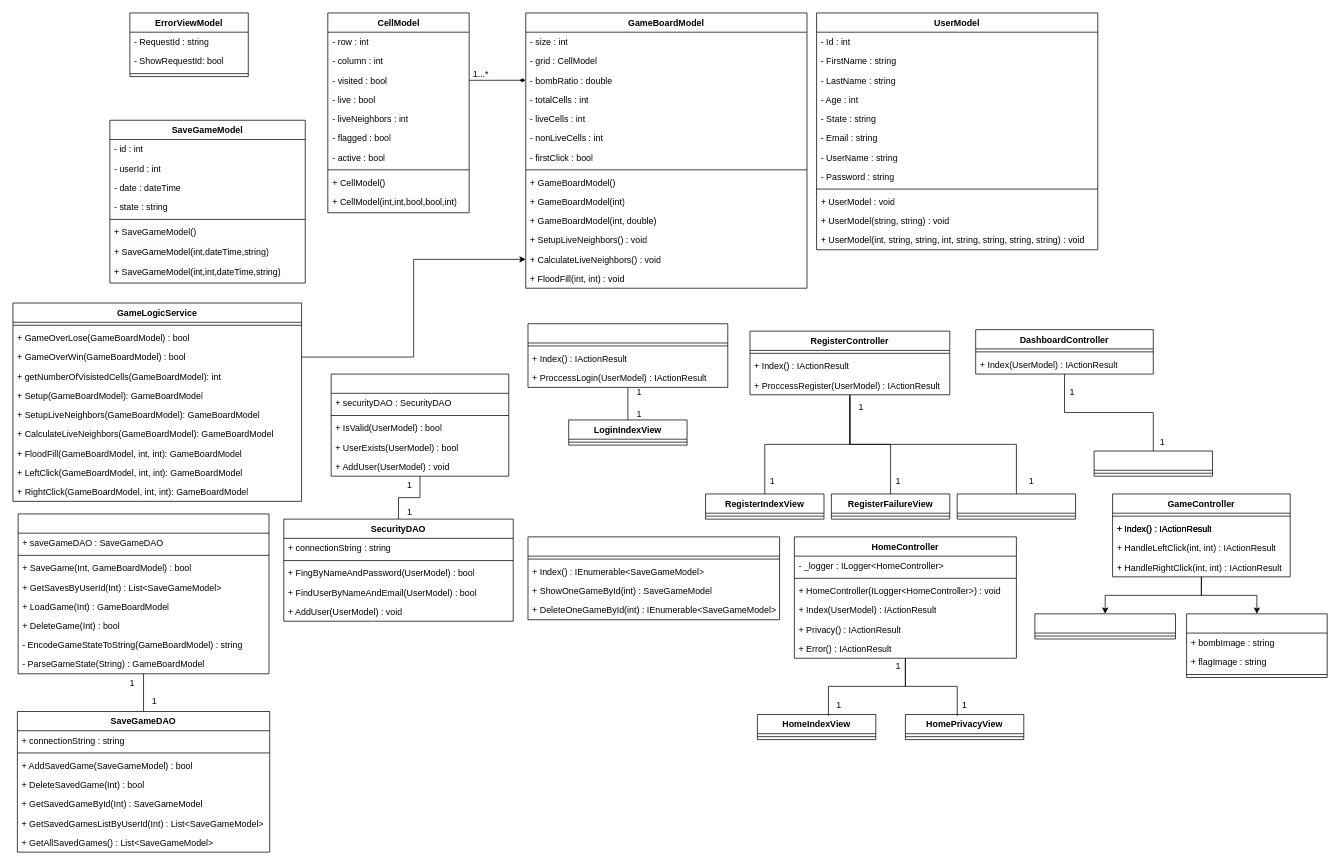
Some shapes in this 1340 by 867 pixel diagram are drawn without their labels. The box of each missing label's shape, as (x1, y1, x2, y2) in pixels:
_GameBoardView: (1186, 613, 1327, 677)
_MinesweeperView: (1034, 613, 1175, 639)
DashboardIndexView: (1093, 450, 1212, 476)
LoginController: (527, 323, 728, 387)
RegisterSuccessView: (956, 493, 1076, 519)
SavedGameAPIController: (527, 536, 780, 620)
SaveGameService: (17, 513, 269, 674)
SecurityService: (330, 373, 509, 476)
